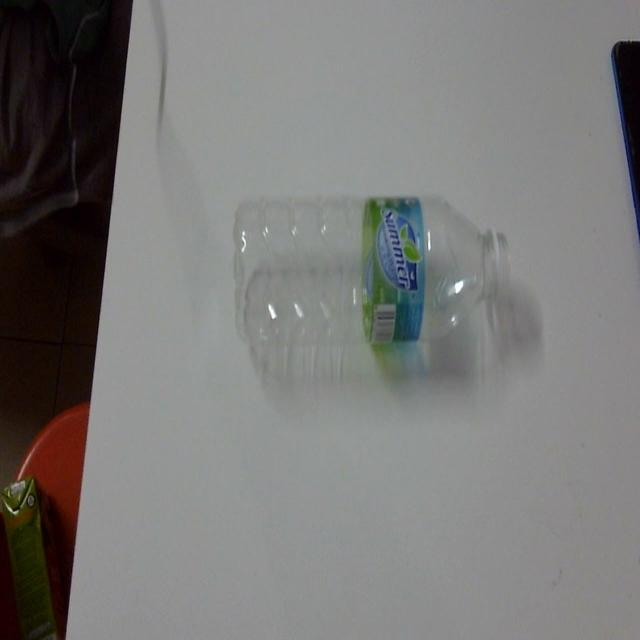plastic_laydown_0rotation: (228, 186, 516, 367)
